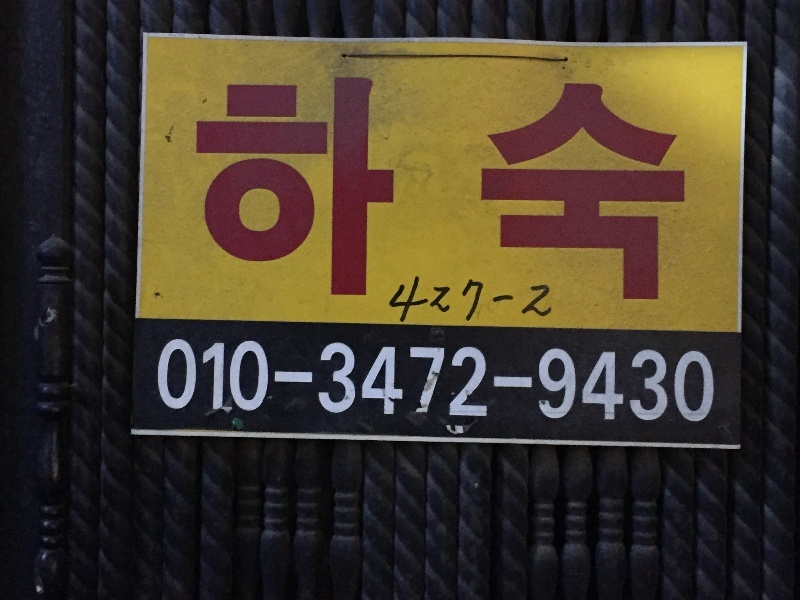text: (209, 68, 224, 311), (225, 68, 240, 311), (241, 68, 256, 311), (257, 68, 272, 311), (273, 68, 288, 311), (289, 68, 304, 311), (305, 68, 320, 311), (321, 68, 336, 311), (337, 68, 352, 311), (353, 68, 368, 311), (369, 68, 384, 311), (385, 68, 400, 311), (401, 68, 416, 311), (417, 68, 432, 311), (433, 68, 448, 311), (449, 68, 464, 311), (465, 68, 480, 311), (481, 68, 496, 311), (497, 68, 512, 311), (513, 68, 528, 311), (529, 68, 544, 311), (545, 68, 560, 311), (561, 68, 576, 311), (577, 68, 592, 311), (593, 68, 608, 311), (609, 68, 624, 311), (625, 68, 640, 311), (641, 68, 656, 311), (657, 68, 672, 311), (673, 68, 688, 311), (194, 68, 208, 311), (161, 335, 176, 430), (177, 335, 192, 430), (193, 335, 208, 430), (209, 335, 224, 430), (225, 335, 240, 430), (241, 335, 256, 430), (257, 335, 272, 430), (273, 335, 288, 430), (289, 335, 304, 430), (305, 335, 320, 430), (321, 335, 336, 430), (337, 335, 352, 430), (353, 335, 368, 430), (369, 335, 384, 430), (385, 335, 400, 430), (401, 335, 416, 430), (417, 335, 432, 430), (433, 335, 448, 430), (449, 335, 464, 430), (465, 335, 480, 430), (481, 335, 496, 430), (497, 335, 512, 430), (513, 335, 528, 430), (529, 335, 544, 430), (545, 335, 560, 430), (561, 335, 576, 430), (577, 335, 592, 430), (593, 335, 608, 430), (609, 335, 624, 430), (625, 335, 640, 430), (641, 335, 656, 430), (657, 335, 672, 430), (673, 335, 688, 430), (689, 335, 704, 430), (705, 335, 720, 430), (401, 272, 416, 326), (417, 272, 432, 326), (433, 272, 448, 326), (449, 272, 464, 326), (465, 272, 480, 326), (481, 272, 496, 326), (497, 272, 512, 326), (513, 272, 528, 326), (529, 272, 544, 326), (689, 68, 692, 311), (545, 272, 556, 326), (154, 335, 160, 430), (396, 272, 400, 326), (721, 335, 722, 430)
